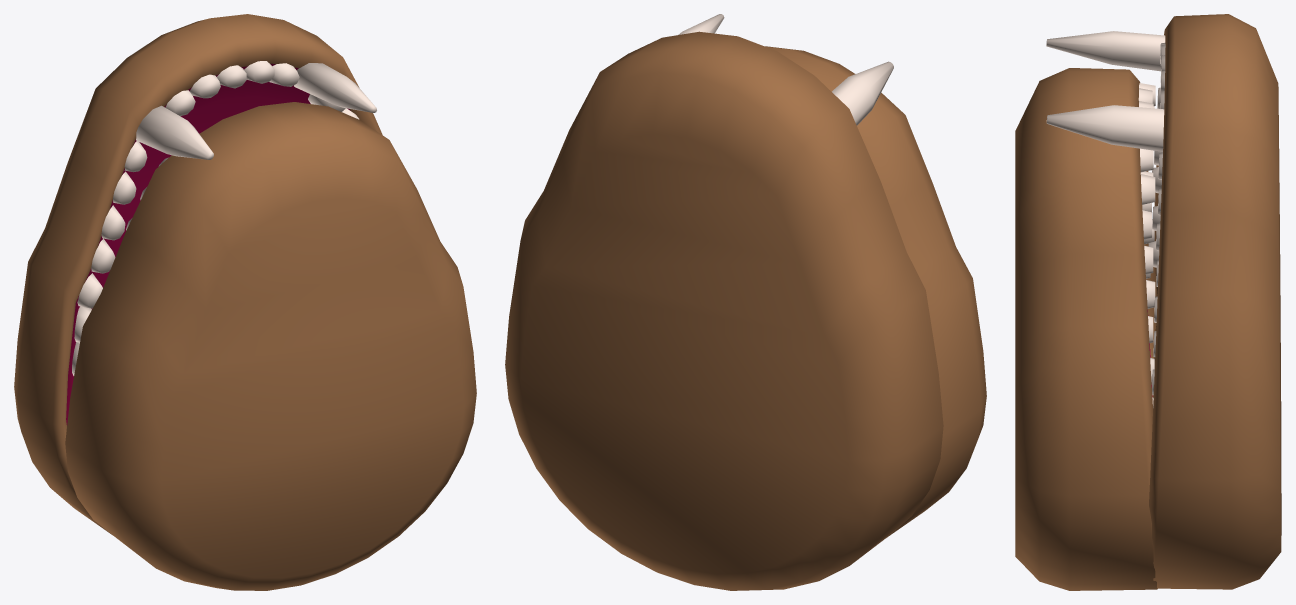
File: Fanged Menace.fbx
3 views of the same model, side by side, from view 1: azimuth 30°, elevation 25°; view 2: azimuth 150°, elevation 25°; view 3: azimuth 270°, elevation 25° (orthographic). The views are drawn at different scales.
Parts seen in each view (by area): view 1: Fanged Menace - Daniel Lochner; view 2: Fanged Menace - Daniel Lochner; view 3: Fanged Menace - Daniel Lochner.
Part boxes in pixels (bbox=[...]): Fanged Menace - Daniel Lochner: bbox=[14, 14, 476, 590]; Fanged Menace - Daniel Lochner: bbox=[505, 14, 986, 590]; Fanged Menace - Daniel Lochner: bbox=[1015, 14, 1281, 590].
Size of the model in its own units: 75.44 by 95.45 by 43.
